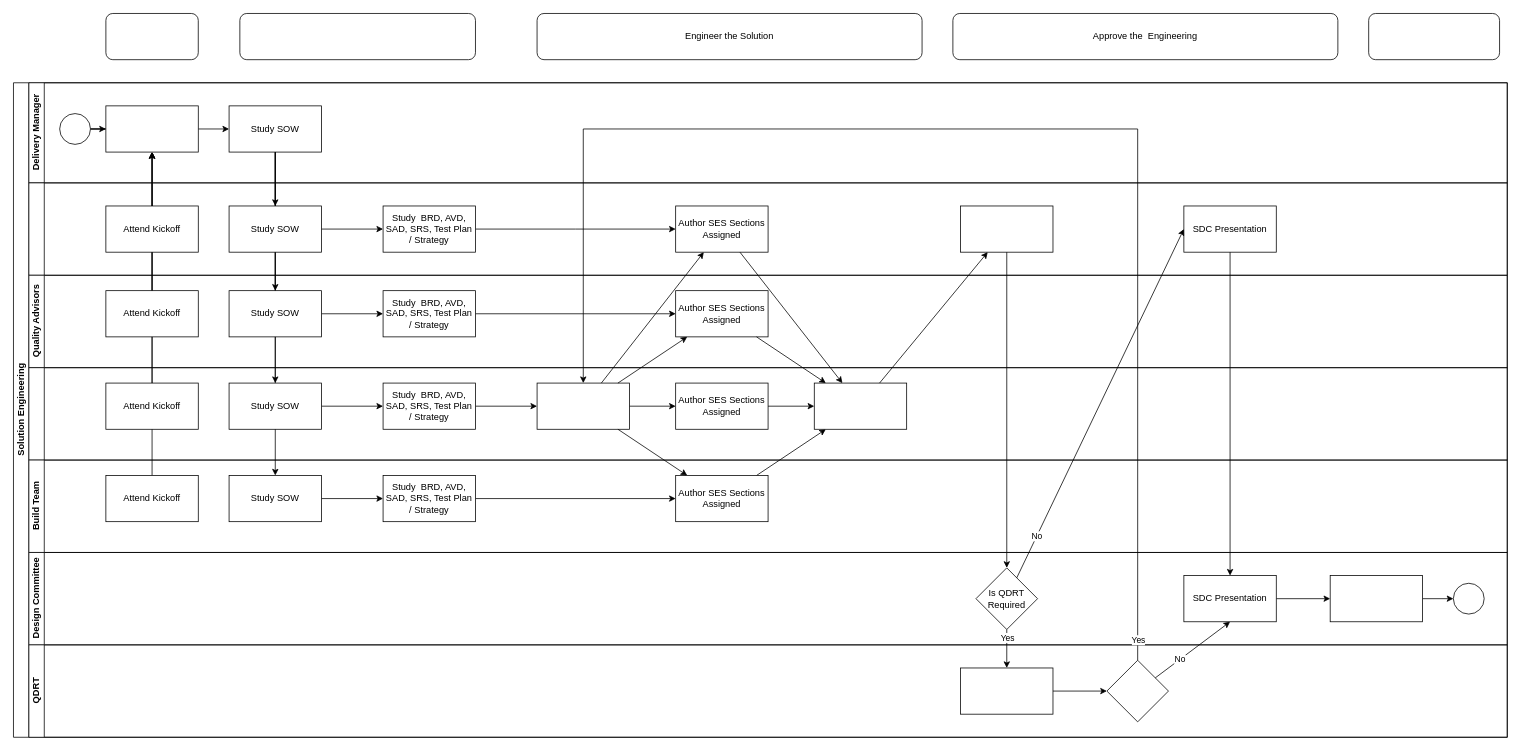
Some shapes in this 1521 by 751 pixel diagram are drawn without their labels. Each missing label, with the box of its shape:
Approve SES Ready for SDC: (960, 205, 1053, 252)
Build Team Lead: (28, 367, 1507, 460)
Divide up work: (536, 382, 629, 429)
Entry to Build: (1368, 13, 1500, 60)
Harmonize SES: (814, 382, 907, 429)
High Risk: (1106, 660, 1168, 722)
Hold Kick-off Meeting for Engineering: (105, 105, 198, 152)
Lead Quality Advisor: (28, 182, 1507, 275)
Onboard New Team Members: (105, 13, 198, 60)
QDRT Review: (960, 667, 1053, 714)
SES Approval: (1329, 575, 1423, 622)
Start: (59, 113, 90, 144)
Start Build: (1453, 583, 1484, 614)
Study the Materials: (239, 13, 475, 60)
